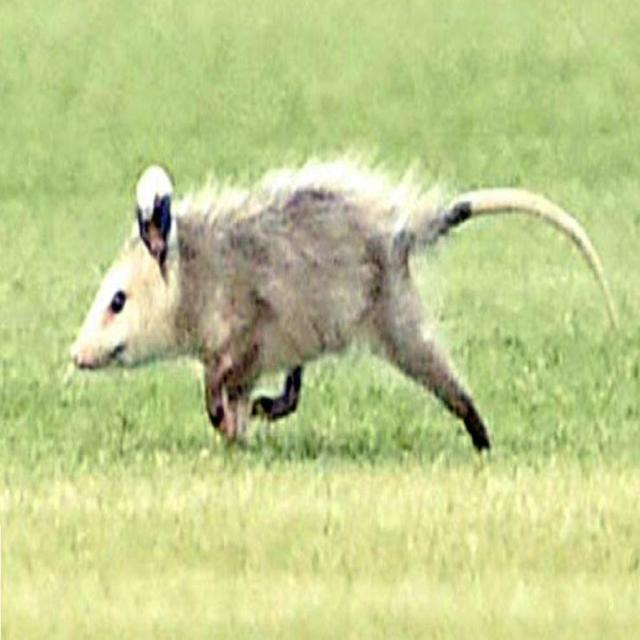Possum: (74, 132, 622, 486)
